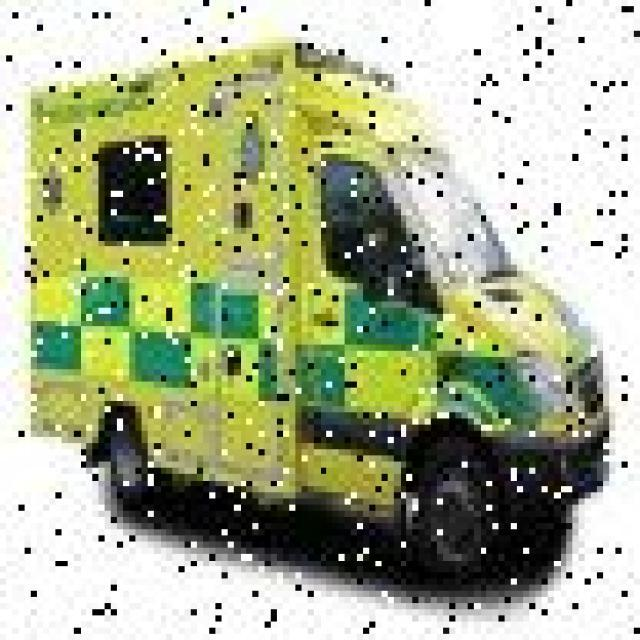emergency-vehicle: (21, 40, 618, 569)
